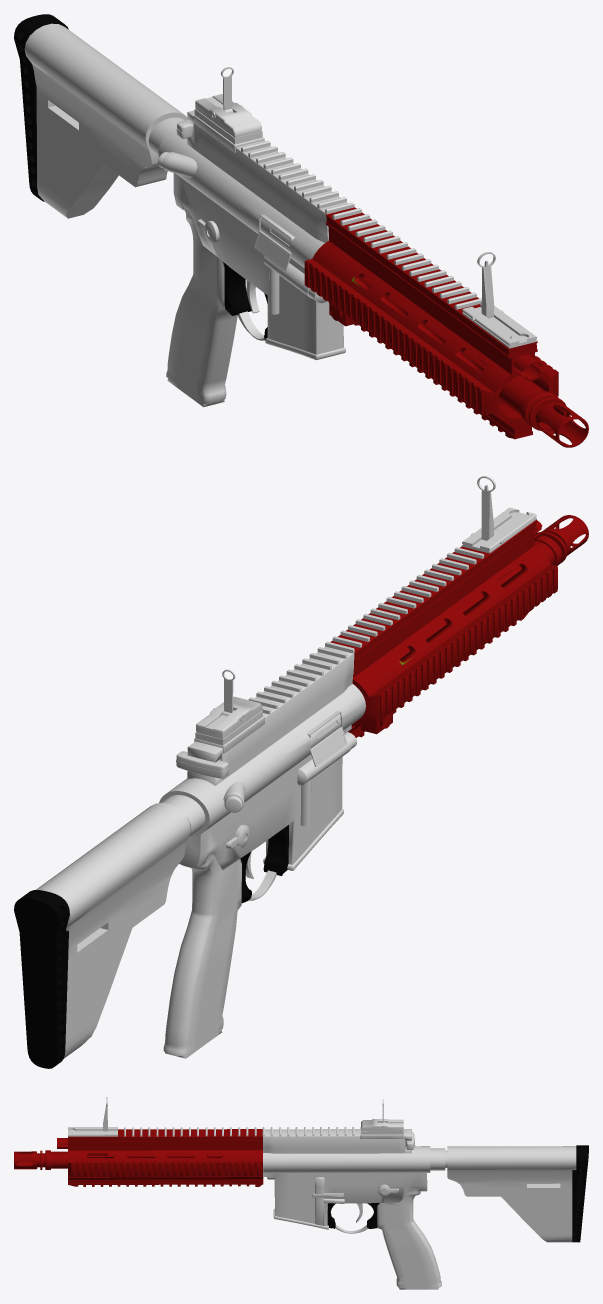
Rendered from HK416 Sights Up.FBX.
3 views of the same model, one above another, from view 1: azimuth 30°, elevation 25°; view 2: azimuth 150°, elevation 25°; view 3: azimuth 270°, elevation 25° (orthographic). The views are drawn at different scales.
Parts seen in each view (by area): view 1: Barrel Part 1, Stock, Main Body, Rail Top, Grip, Barrel part 2, Front Sight, idk what this is called, Flap; view 2: Stock, Barrel Part 1, Main Body, Grip, Rail Top, Barrel part 2, Back pull, idk what this is called, Front Sight; view 3: Barrel Part 1, Stock, Main Body, Barrel part 2, Grip, Rail Top.
Boxes of the visible parts, x1,y1,x2,y2 form: Barrel Part 1: (304, 207, 588, 447); Stock: (14, 14, 187, 218); Main Body: (158, 110, 347, 360); Rail Top: (193, 94, 537, 348); Grip: (166, 207, 237, 407); Barrel part 2: (148, 117, 324, 267); Front Sight: (471, 252, 503, 321); idk what this is called: (263, 256, 327, 303); Flap: (254, 230, 291, 270); Stock: (14, 803, 190, 1068); Barrel Part 1: (330, 515, 588, 737); Main Body: (179, 646, 354, 903); Grip: (163, 854, 241, 1058); Rail Top: (194, 507, 536, 753); Barrel part 2: (159, 684, 365, 837); Back pull: (176, 751, 228, 778); idk what this is called: (297, 732, 356, 785); Front Sight: (471, 476, 503, 544); Barrel Part 1: (14, 1129, 263, 1186); Stock: (447, 1145, 588, 1242); Main Body: (263, 1129, 427, 1233); Barrel part 2: (263, 1146, 447, 1173); Grip: (377, 1188, 441, 1289); Rail Top: (67, 1119, 403, 1138).
Size of the model in its own units: 23.81 by 98.29 by 271.
